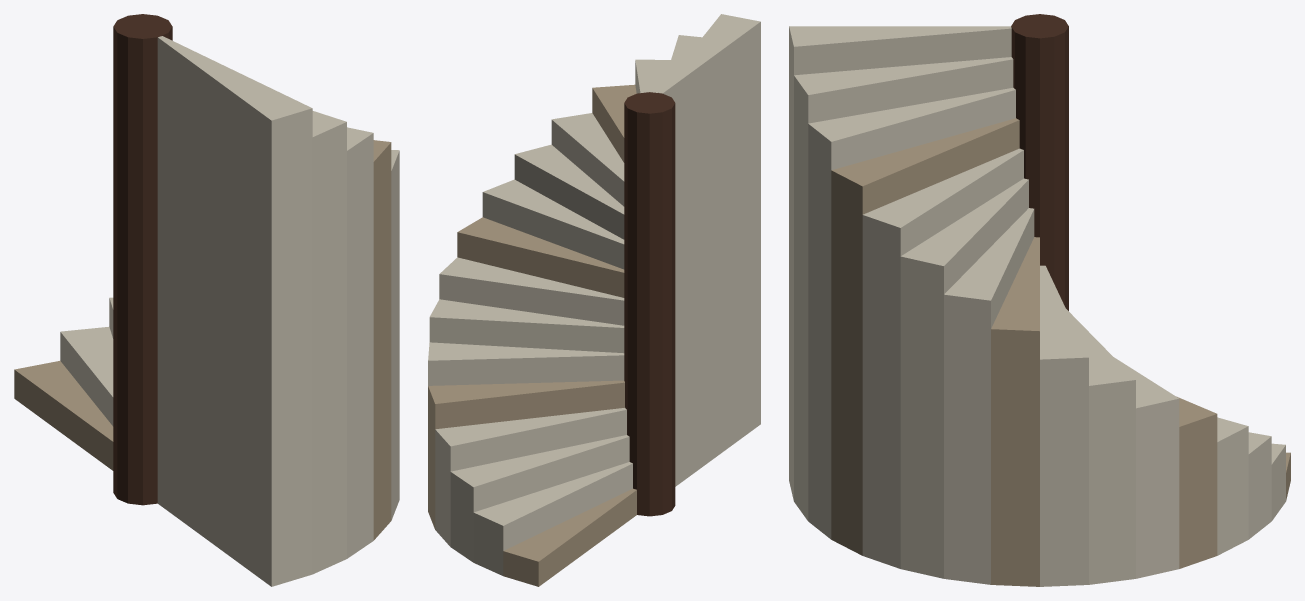
Rendered from StairSpiral__Half.fbx.
3 renders of one model, left to right at view 1: azimuth 30°, elevation 25°; view 2: azimuth 150°, elevation 25°; view 3: azimuth 270°, elevation 25°, orthographic. The views are drawn at different scales.
Visible parts, largest first — view 1: StairSpiral__Half; view 2: StairSpiral__Half; view 3: StairSpiral__Half.
Part boxes in pixels (box(x1,y1,x2,y2)): StairSpiral__Half: box(14, 14, 399, 586); StairSpiral__Half: box(428, 14, 760, 586); StairSpiral__Half: box(789, 14, 1290, 586).
Bounding box in the file's own units: 223 × 400 × 400.
1 material, 1 textured.
